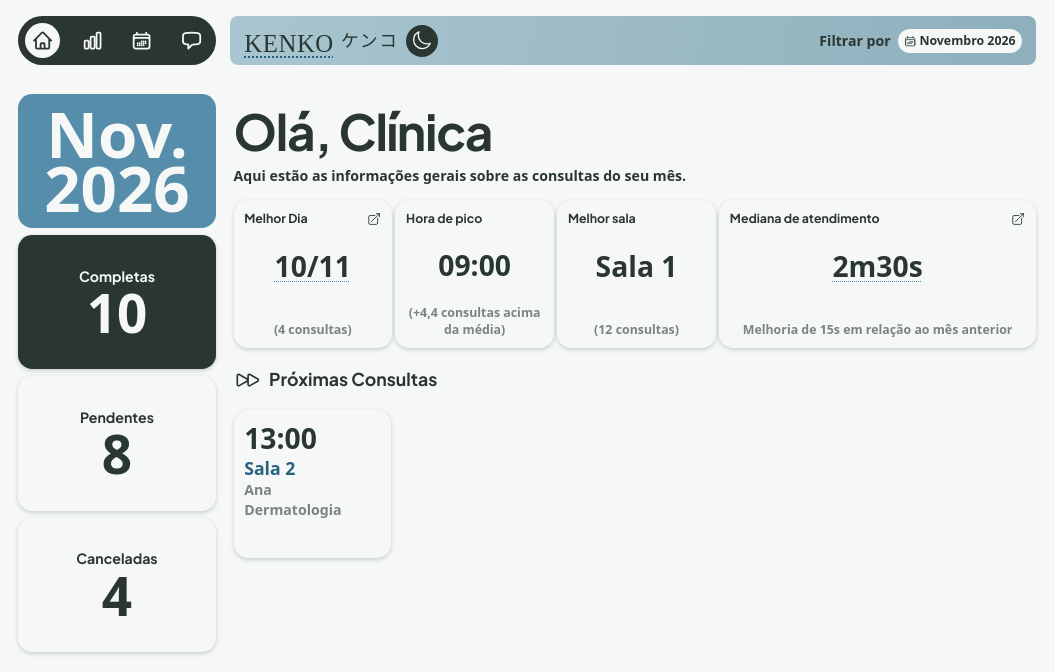
Test case: navega pelo card Melhor Dia
Step 1. Click the link "Melhor Dia 10/11 (4 consultas)" → (313, 274), box [234, 200, 392, 348]
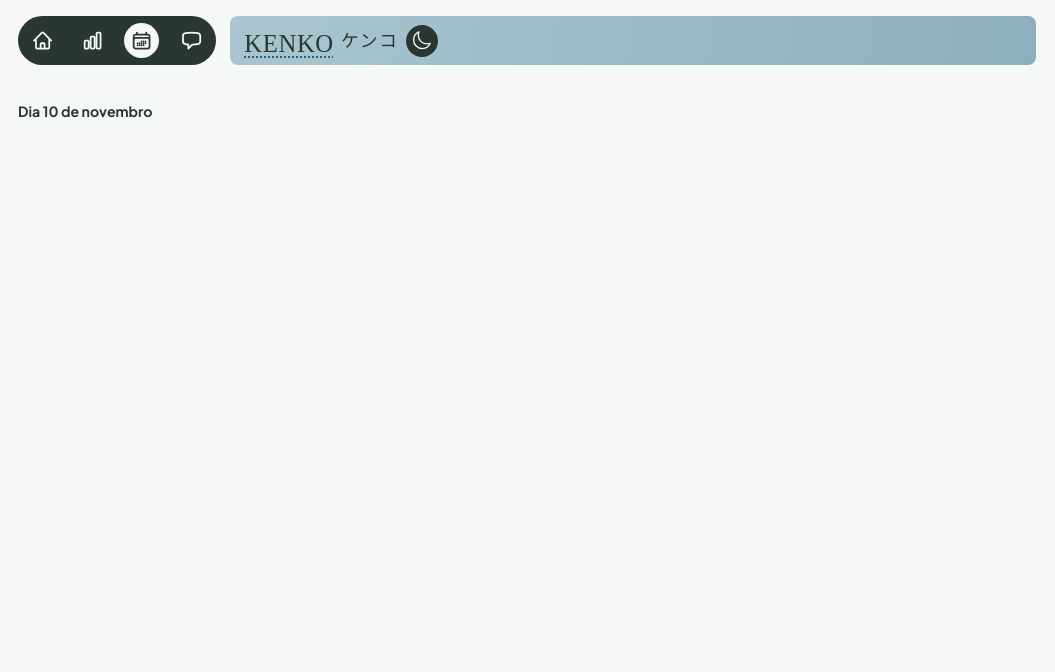
Now the heading "Dia 10 de novembro" is shown, box [18, 102, 153, 120]
